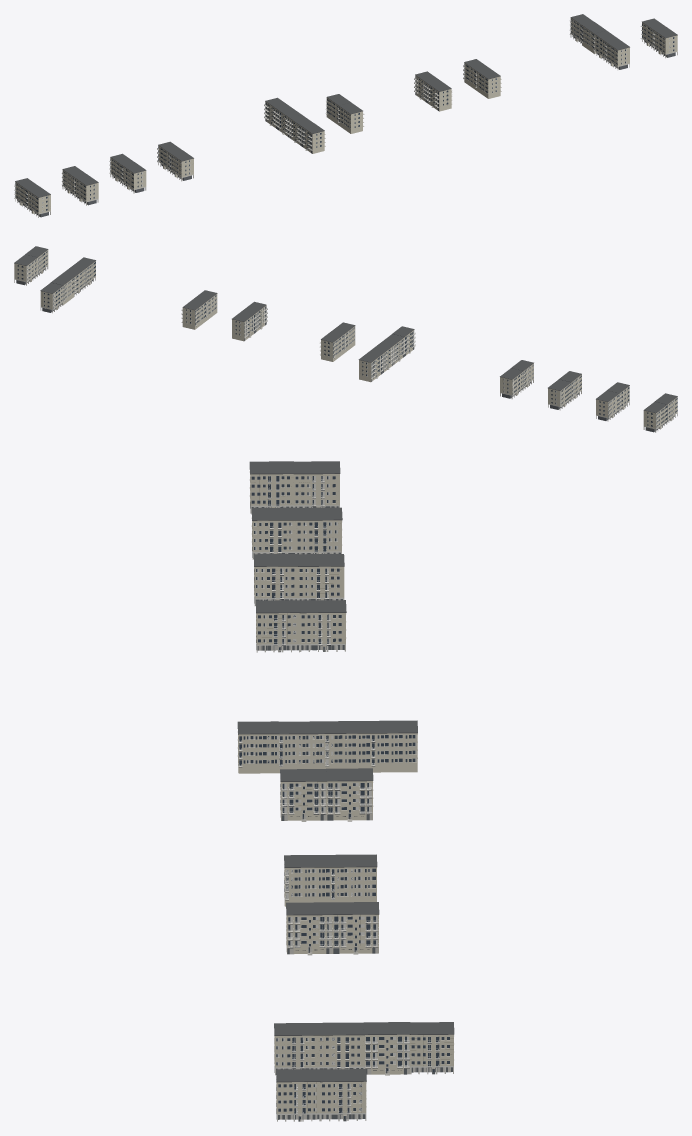
File: comenius-merged.glb
The picture shows the model from 3 angles, top to bottom: view 1: azimuth 30°, elevation 25°; view 2: azimuth 150°, elevation 25°; view 3: azimuth 270°, elevation 25°; orthographic projection. The views are drawn at different scales.
Parts seen in each view (by area): view 1: comenius; view 2: comenius; view 3: comenius.
Part boxes in pixels (box(x1,y1,x2,y2)): comenius: box(14, 14, 677, 217); comenius: box(14, 246, 677, 432); comenius: box(237, 461, 454, 1121).
Size of the model in its own units: 517 by 15.65 by 76.1.
